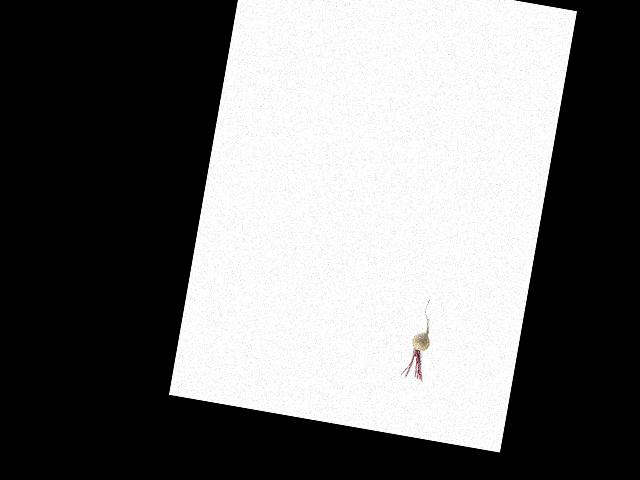beet: (401, 296, 437, 381)
